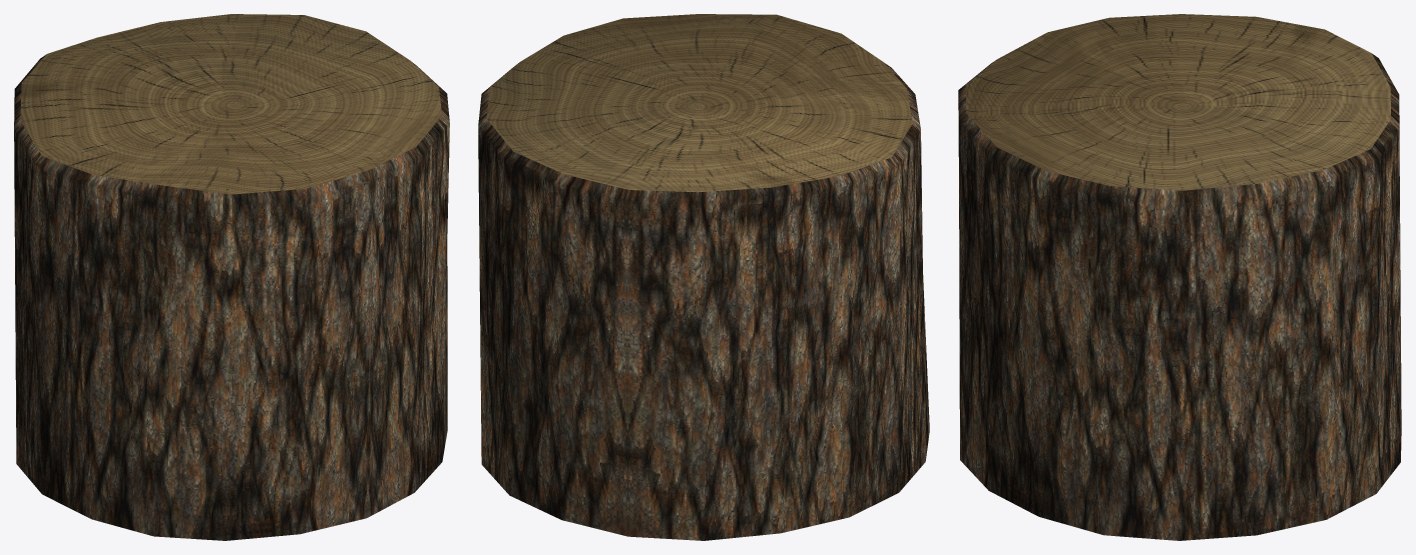
File: log_LOD0.FBX
3 views of the same model, side by side, from view 1: azimuth 30°, elevation 25°; view 2: azimuth 150°, elevation 25°; view 3: azimuth 270°, elevation 25° (orthographic).
Parts seen in each view (by area): view 1: log_LOD0; view 2: log_LOD0; view 3: log_LOD0.
Part boxes in pixels (x1,y1,x2,y2): log_LOD0: [14, 14, 449, 540]; log_LOD0: [478, 14, 929, 540]; log_LOD0: [958, 14, 1401, 540].
Bounding box in the file's own units: 56.58 × 48.38 × 55.59.
